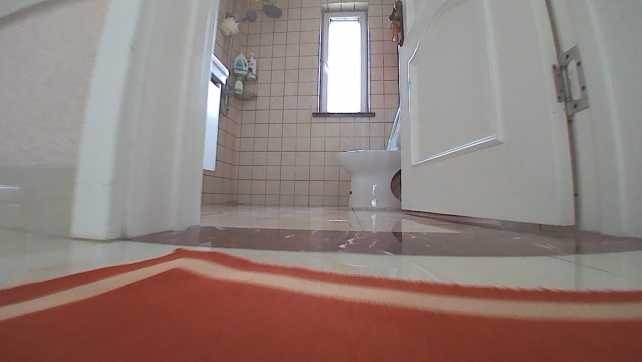blanket: (0, 241, 641, 361)
door_anno: (385, 0, 641, 240)
toilet: (335, 107, 401, 211)
